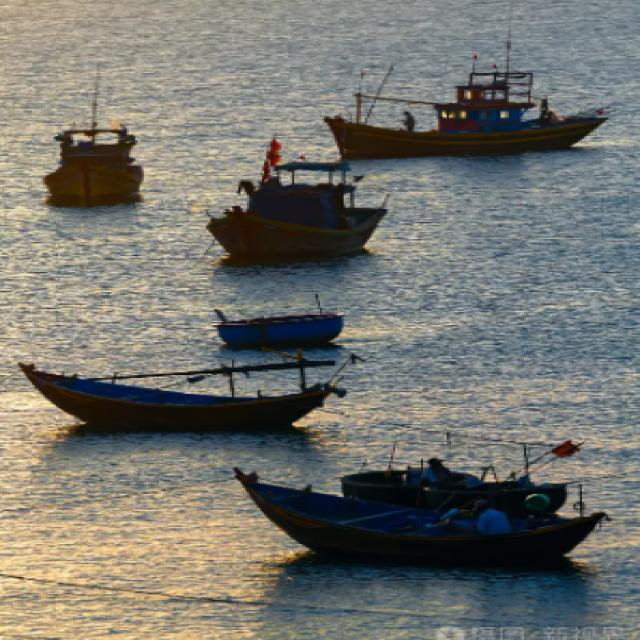fishing boat: (226, 468, 600, 566), (20, 346, 342, 431), (325, 67, 608, 155), (206, 144, 391, 260), (343, 448, 562, 507), (36, 87, 150, 198), (212, 304, 354, 349)
